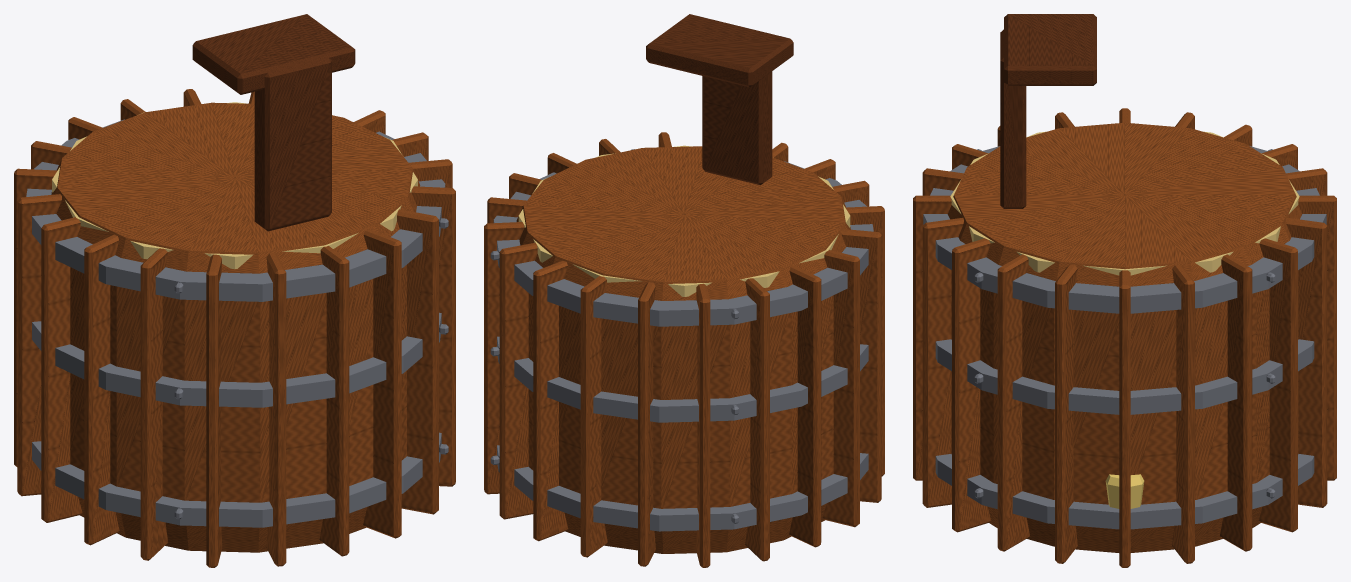
The model's file is fantasy-mmo-city-and-townsfolk-brewing-vat-0529004f__32760.glb.
3 views of the same model, side by side, from view 1: azimuth 30°, elevation 25°; view 2: azimuth 150°, elevation 25°; view 3: azimuth 270°, elevation 25° (orthographic). The views are drawn at different scales.
Visible parts, largest first — view 1: brewing-vat; view 2: brewing-vat; view 3: brewing-vat.
Boxes of the visible parts, bbox=[...] form: brewing-vat: bbox=[14, 14, 455, 567]; brewing-vat: bbox=[484, 14, 884, 567]; brewing-vat: bbox=[913, 14, 1336, 567].
Bounding box in the file's own units: 2.28 × 2.62 × 2.28.
Materials: 5 (2 with a texture image).
